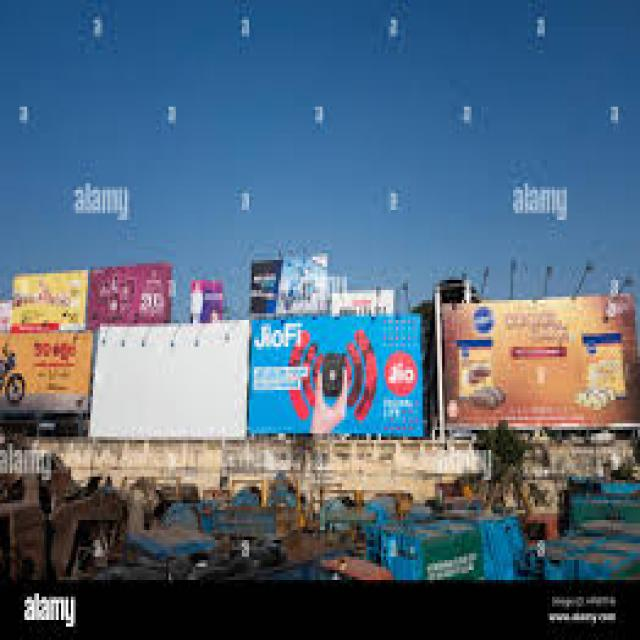Werbetafel frei: (437, 301, 638, 424), (251, 316, 419, 429), (97, 331, 246, 436), (0, 332, 90, 430), (11, 270, 86, 334), (90, 267, 170, 324), (192, 277, 223, 320)
